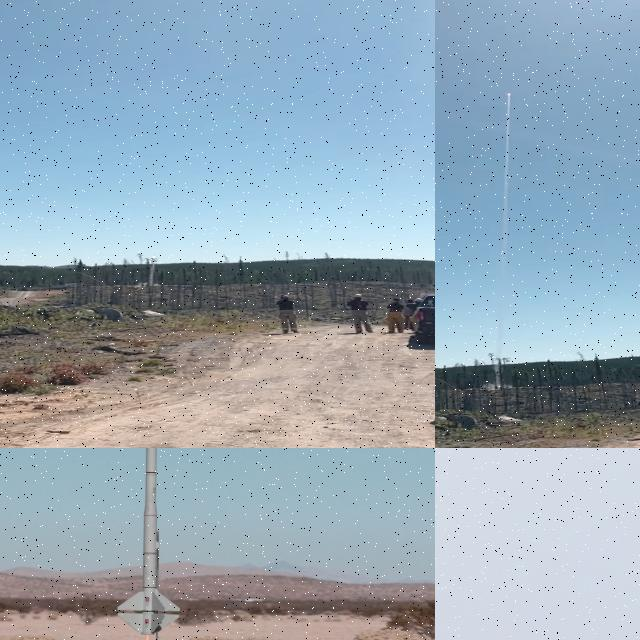Rocket: (115, 448, 183, 635), (508, 91, 511, 93)
